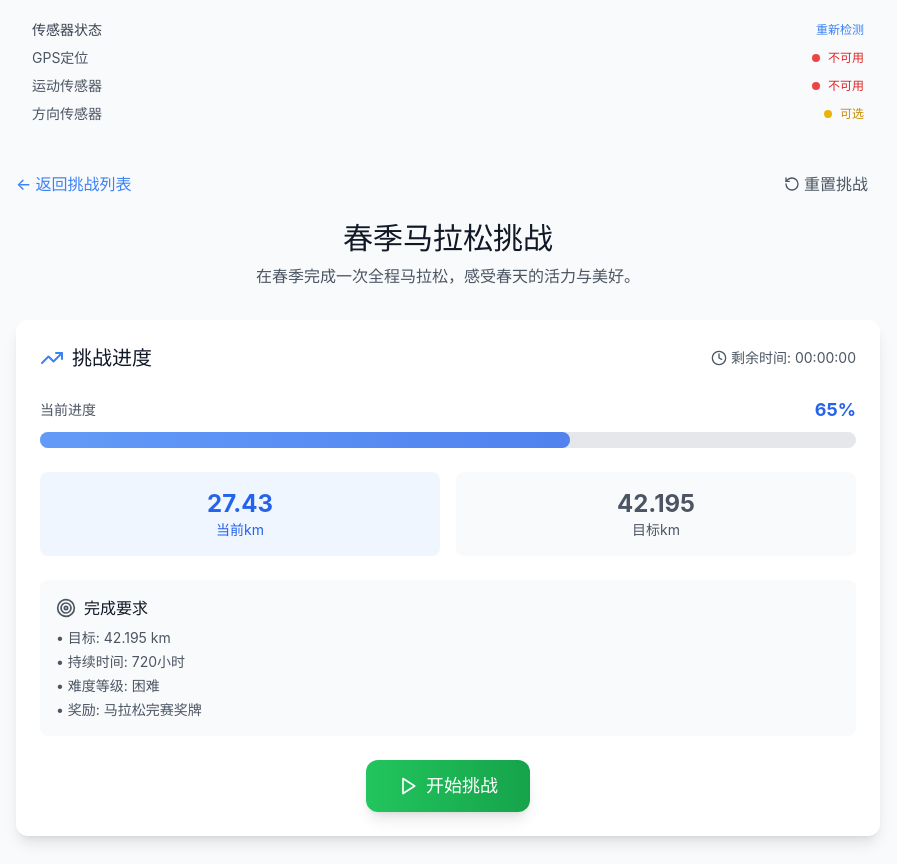
Test: 挑战竞赛流程测试 › ChallengeProgress 页面测试 › 应该处理设备不支持的情况
expect the text "开始挑战" is shown: met, box [426,772,498,800]
Click the button "开始挑战": (448, 786) [366,760,530,812]
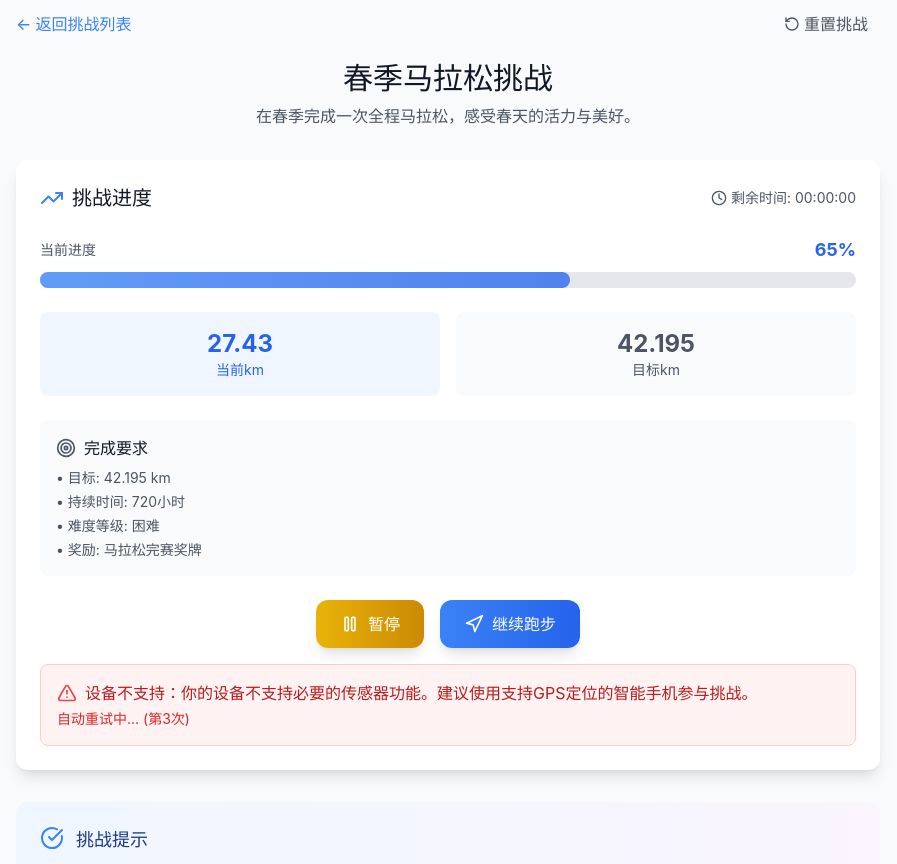
expect the text "设备不支持：你的设备不支持必要的传感器功能。建议使用支持GPS定位的智能手机参与挑战。" is shown: met, box [85,681,757,705]
